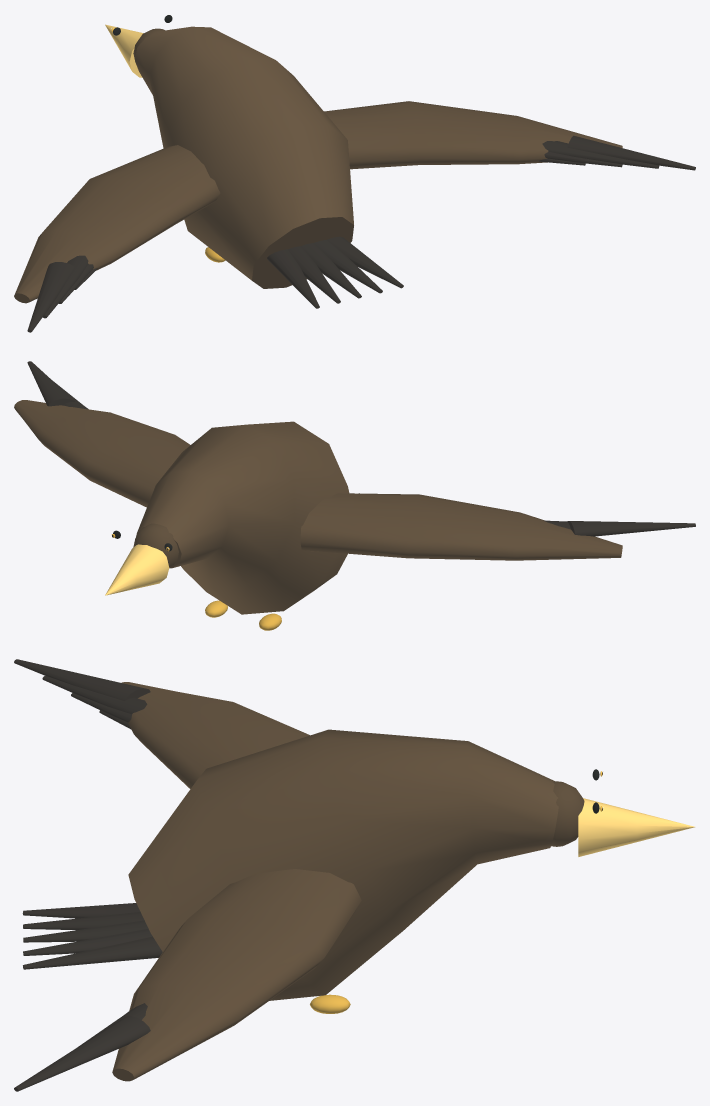
File: eagle_hero.glb
The picture shows the model from 3 angles, top to bottom: view 1: azimuth 30°, elevation 25°; view 2: azimuth 150°, elevation 25°; view 3: azimuth 270°, elevation 25°; orthographic projection. The views are drawn at different scales.
Visible parts, largest first — view 1: EagleOrganicBody, Wing, Wing2, _MeshInstance3D_46, _MeshInstance3D_43, TailFeather, _MeshInstance3D_50, _MeshInstance3D_49, _MeshInstance3D_48, _MeshInstance3D_45, _MeshInstance3D_47, HookedBeak (+1 smaller); view 2: EagleOrganicBody, Wing, Wing2, HookedBeak, _MeshInstance3D_43, Head, _MeshInstance3D_46; view 3: EagleOrganicBody, Wing2, Wing, HookedBeak, _MeshInstance3D_46, _MeshInstance3D_50, _MeshInstance3D_43, Head, _MeshInstance3D_49, _MeshInstance3D_48, _MeshInstance3D_47, TailFeather (+1 smaller).
Part boxes in pixels (<box>): EagleOrganicBody: <box>135,26,353,288</box>; Wing: <box>14,145,220,303</box>; Wing2: <box>324,101,622,169</box>; _MeshInstance3D_46: <box>567,135,695,170</box>; _MeshInstance3D_43: <box>27,262,75,332</box>; TailFeather: <box>267,249,319,308</box>; _MeshInstance3D_50: <box>327,236,403,288</box>; _MeshInstance3D_49: <box>314,240,382,293</box>; _MeshInstance3D_48: <box>301,243,361,298</box>; _MeshInstance3D_45: <box>542,141,659,168</box>; _MeshInstance3D_47: <box>288,246,340,303</box>; HookedBeak: <box>105,24,143,77</box>; EagleOrganicBody: <box>136,421,349,614</box>; Wing: <box>300,493,622,560</box>; Wing2: <box>14,400,190,507</box>; HookedBeak: <box>105,544,169,595</box>; _MeshInstance3D_43: <box>567,521,695,536</box>; Head: <box>133,523,178,568</box>; _MeshInstance3D_46: <box>27,361,74,406</box>; EagleOrganicBody: <box>128,729,558,1000</box>; Wing2: <box>112,869,361,1081</box>; Wing: <box>121,682,309,788</box>; HookedBeak: <box>578,798,694,856</box>; _MeshInstance3D_46: <box>14,1016,150,1091</box>; _MeshInstance3D_50: <box>23,936,162,969</box>; _MeshInstance3D_43: <box>14,659,150,700</box>; Head: <box>551,781,584,846</box>; _MeshInstance3D_49: <box>23,928,152,955</box>; _MeshInstance3D_48: <box>23,920,148,942</box>; _MeshInstance3D_47: <box>23,912,144,930</box>; TailFeather: <box>22,903,140,918</box>.
Size of the model in its own units: 5.93 by 1.68 by 3.98.
